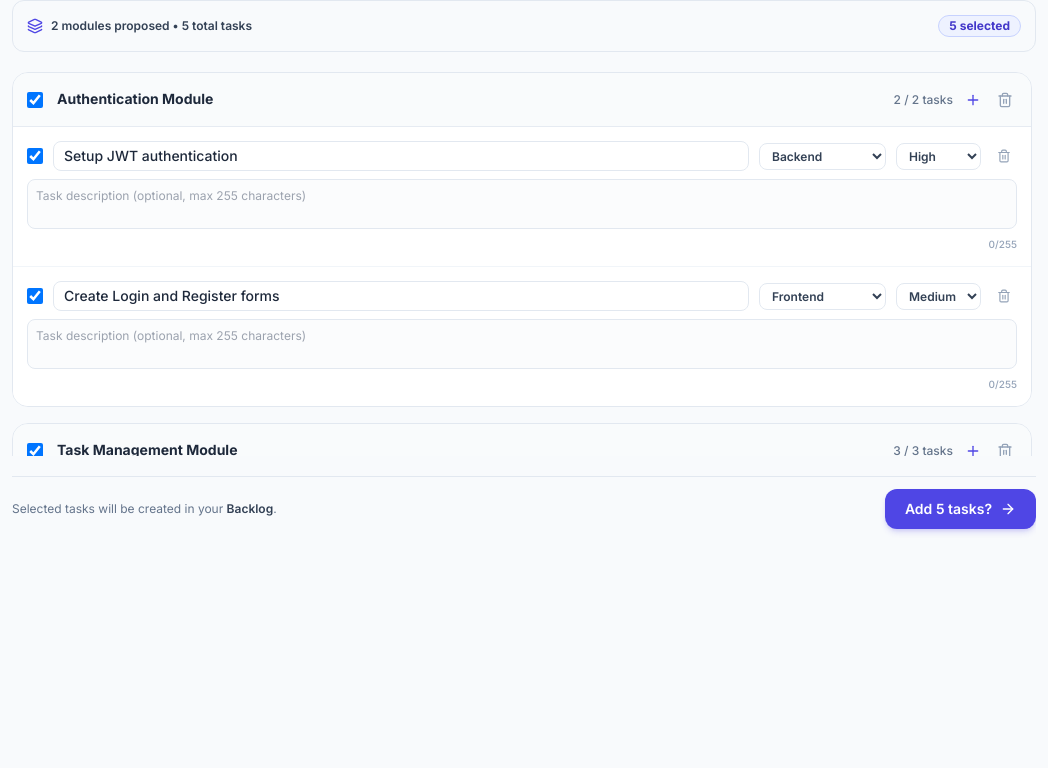
Test: MODULE F8: AI Features › Project Plan & PlanPreview › Reset to AI suggestion action per task restores the original values
// Edit title and priority
Type " - EDITED" into the field with test id "task-title-input-0-0" at (401, 156), box left=53, top=141, right=749, bottom=171
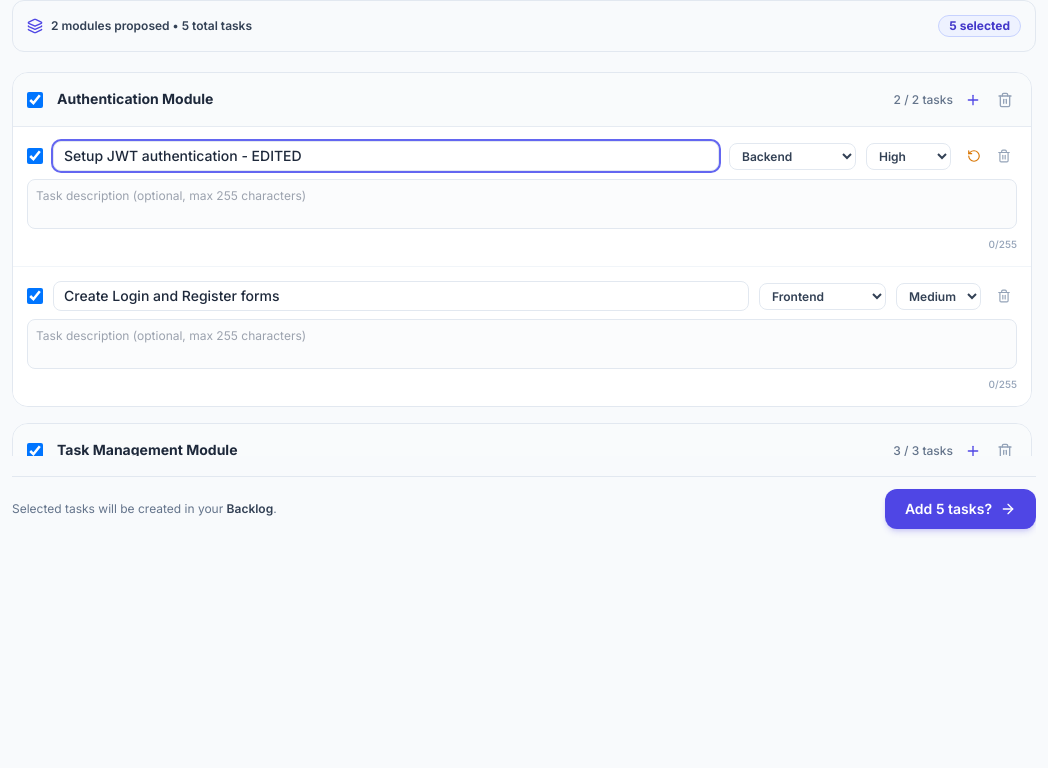
Expected: the button with test id "reset-task-btn-0-0" is shown
// Click reset
Click the button with test id "reset-task-btn-0-0" at (974, 156), box left=961, top=143, right=987, bottom=169
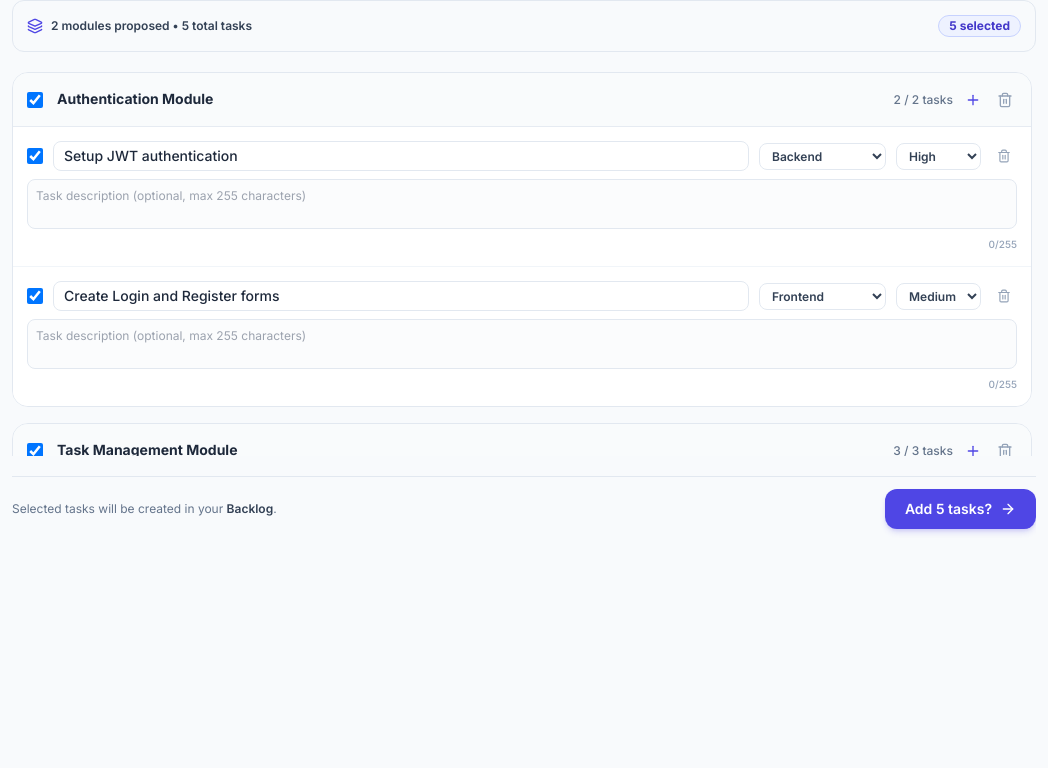
Expected: the field with test id "task-title-input-0-0" holds "Setup JWT authentication", left=53, top=141, right=749, bottom=171
Expected: the button with test id "reset-task-btn-0-0" is gone
